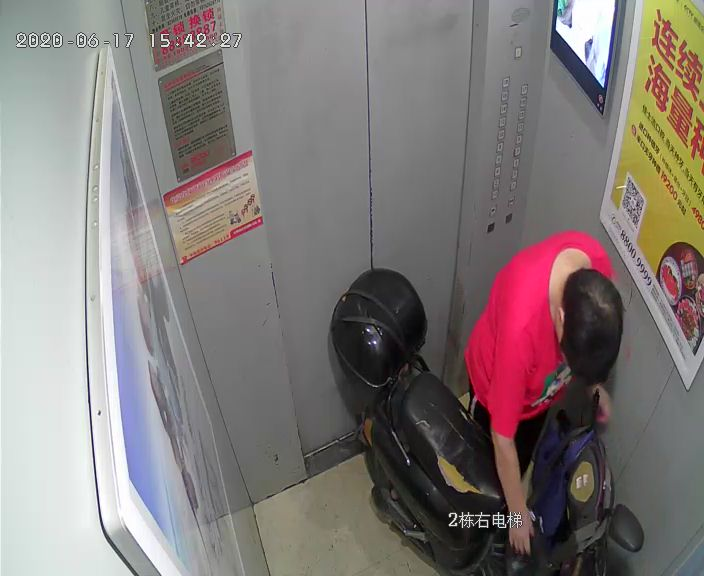Electric-bicycle: (329, 268, 646, 576)
